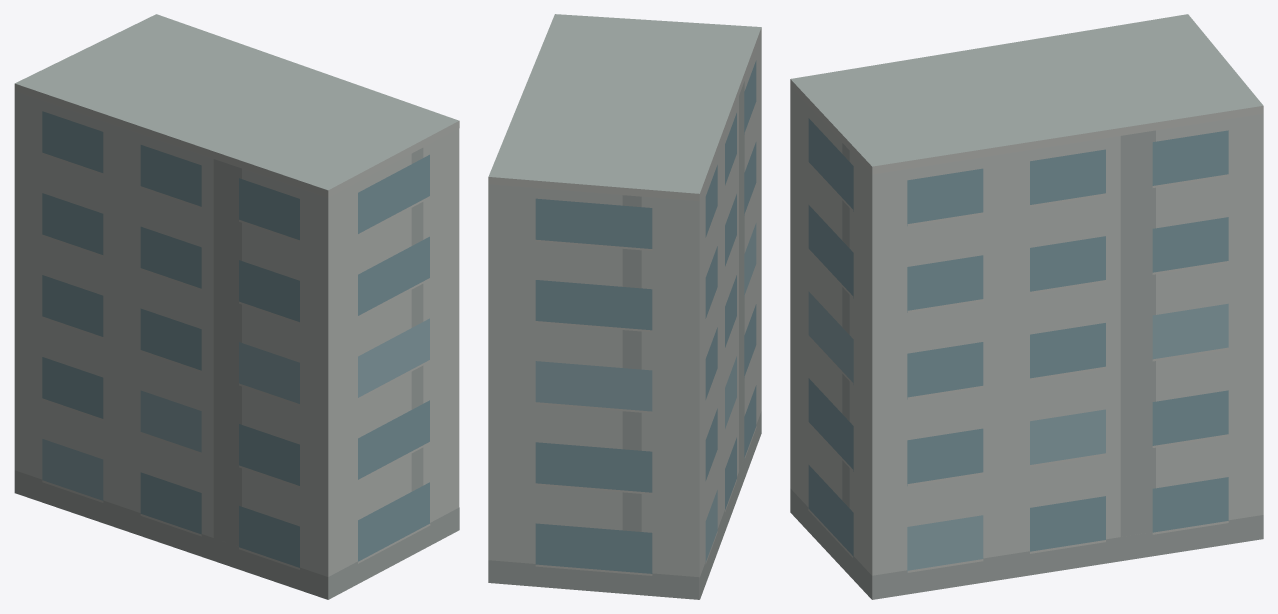
File: survey-upis-32884282.glb
3 views of the same model, side by side, from view 1: azimuth 30°, elevation 25°; view 2: azimuth 150°, elevation 25°; view 3: azimuth 270°, elevation 25° (orthographic). The views are drawn at different scales.
Parts seen in each view (by area): view 1: survey-upis-32884282.tmp; view 2: survey-upis-32884282.tmp; view 3: survey-upis-32884282.tmp.
Boxes of the visible parts, left/top/right/bottom form: survey-upis-32884282.tmp: left=14, top=14, right=459, bottom=599; survey-upis-32884282.tmp: left=488, top=14, right=761, bottom=599; survey-upis-32884282.tmp: left=790, top=14, right=1263, bottom=599.
Size of the model in its own units: 10.02 by 13.25 by 13.13.
